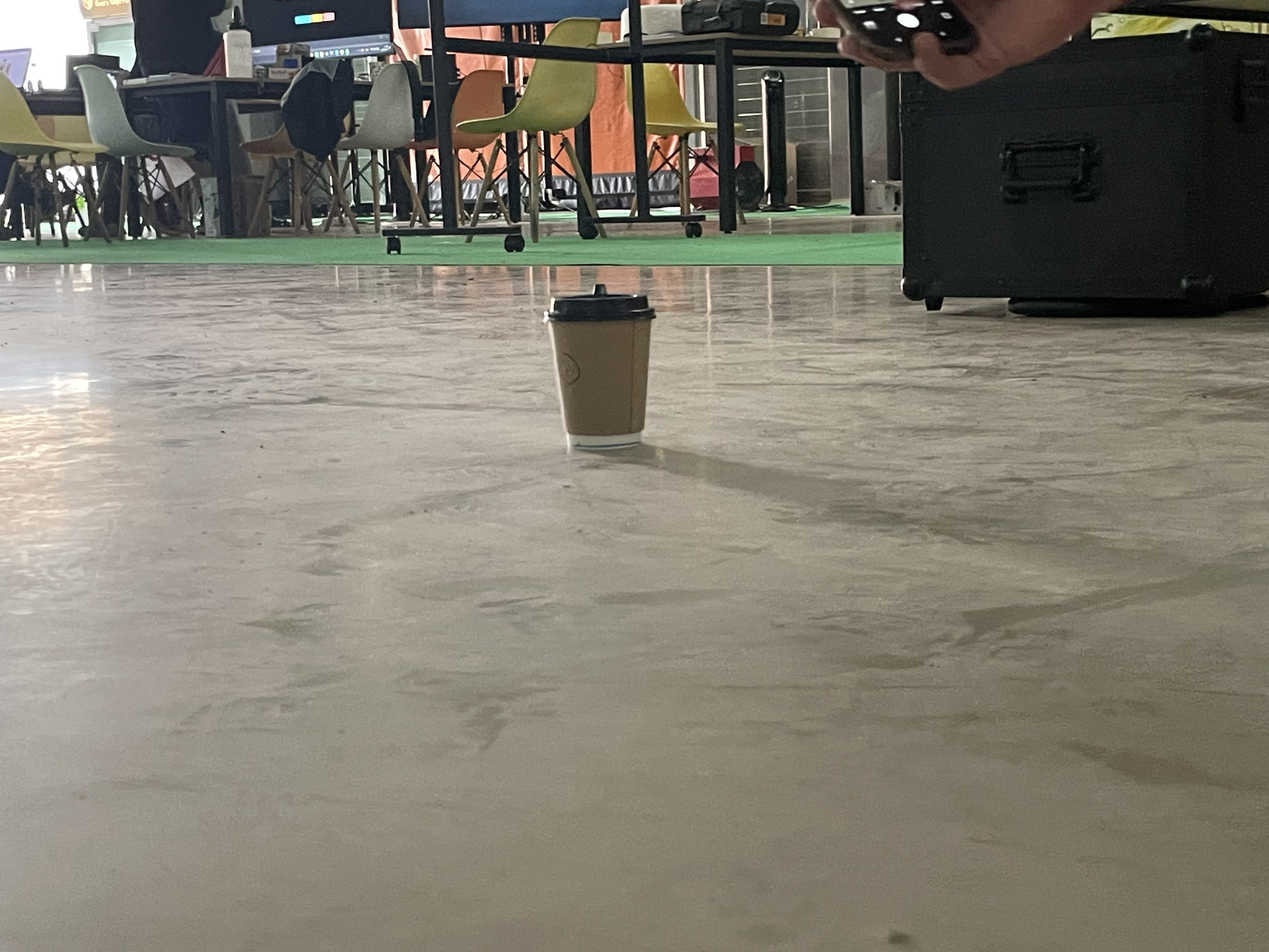cup: (546, 284, 655, 450)
